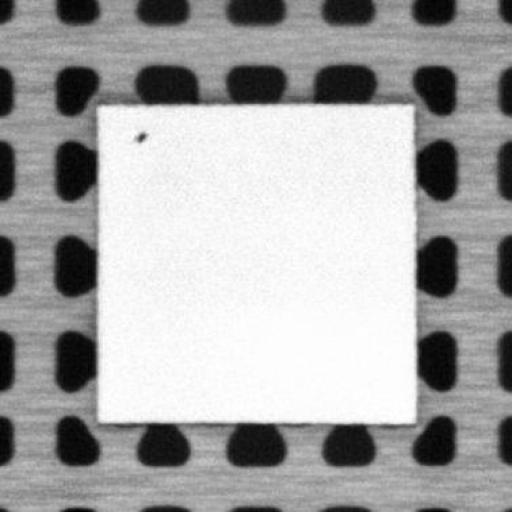DIE_INK: (128, 127, 148, 143)
